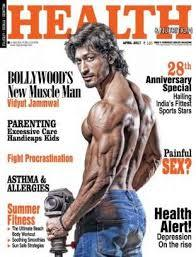Printing industry: (1, 1, 196, 257)
